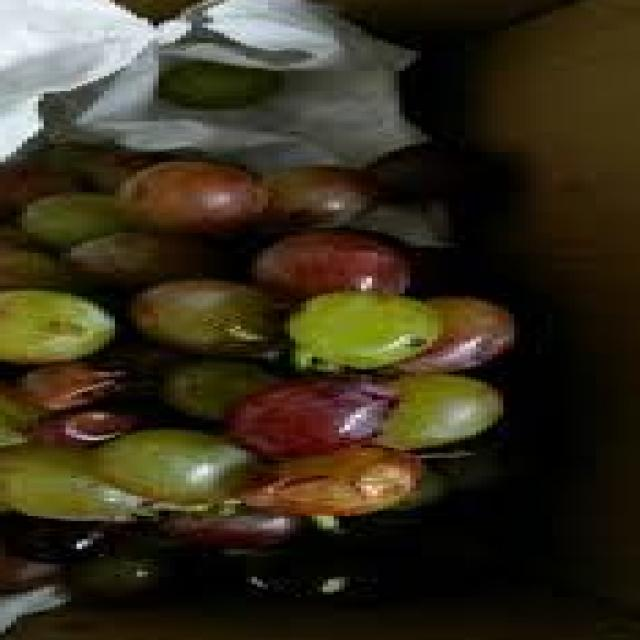inorganic: (0, 129, 527, 535)
